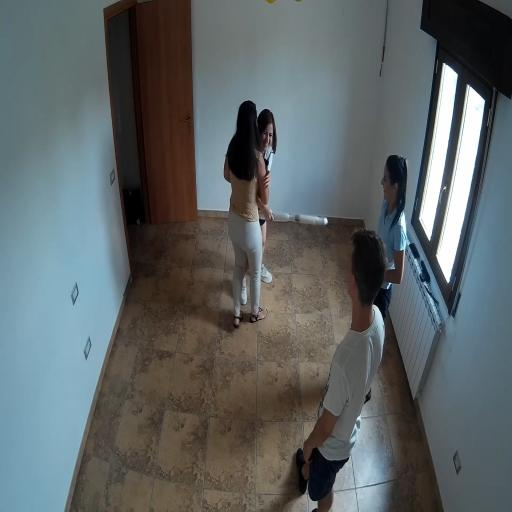violencia: (215, 95, 334, 330)
